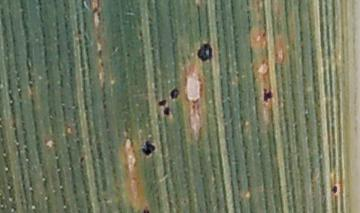tarspot: (196, 43, 214, 62), (141, 140, 156, 158), (263, 87, 272, 103), (171, 89, 180, 99), (157, 98, 167, 107), (162, 106, 171, 116), (77, 155, 85, 163), (332, 185, 338, 194), (142, 207, 150, 213)
